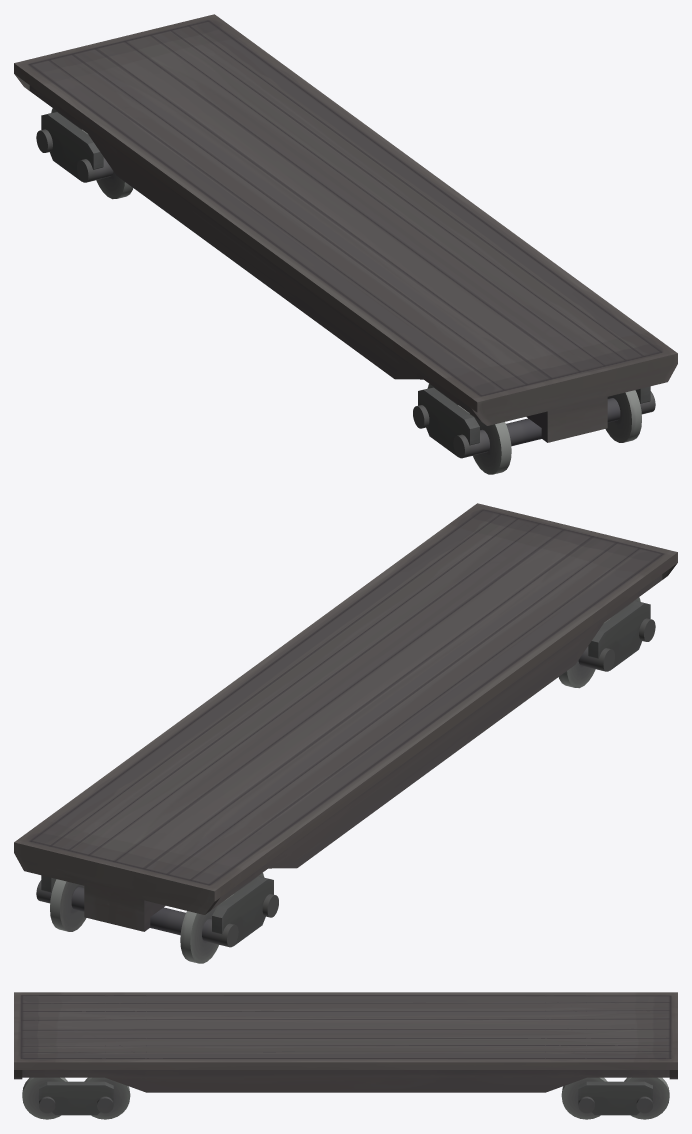
Rendered from RailPlatform8.fbx.
The picture shows the model from 3 angles, top to bottom: view 1: azimuth 30°, elevation 25°; view 2: azimuth 150°, elevation 25°; view 3: azimuth 270°, elevation 25°; orthographic projection. The views are drawn at different scales.
Parts seen in each view (by area): view 1: RailPlatform8; view 2: RailPlatform8; view 3: RailPlatform8.
Boxes of the visible parts, x1=… form: RailPlatform8: x1=14, y1=14, x2=677, y2=474; RailPlatform8: x1=14, y1=503, x2=677, y2=963; RailPlatform8: x1=14, y1=992, x2=677, y2=1119.
Bounding box in the file's own units: 200 × 90 × 800.
